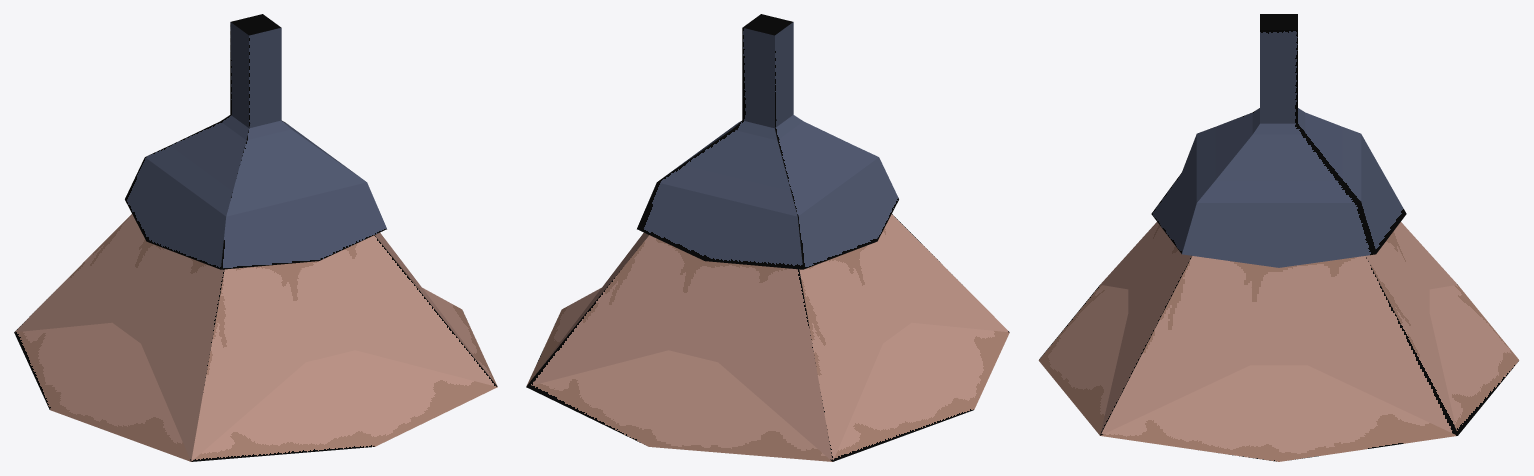
The model's file is Lamp.glb.
3 views of the same model, side by side, from view 1: azimuth 30°, elevation 25°; view 2: azimuth 150°, elevation 25°; view 3: azimuth 270°, elevation 25° (orthographic).
Visible parts, largest first — view 1: Cube.016; view 2: Cube.016; view 3: Cube.016.
Boxes of the visible parts, x1,y1,x2,y2 form: Cube.016: (14, 14, 497, 461); Cube.016: (526, 14, 1009, 461); Cube.016: (1038, 14, 1519, 461).
Size of the model in its own units: 1.07 by 1.01 by 1.07.
Materials: 3 (1 with a texture image).
